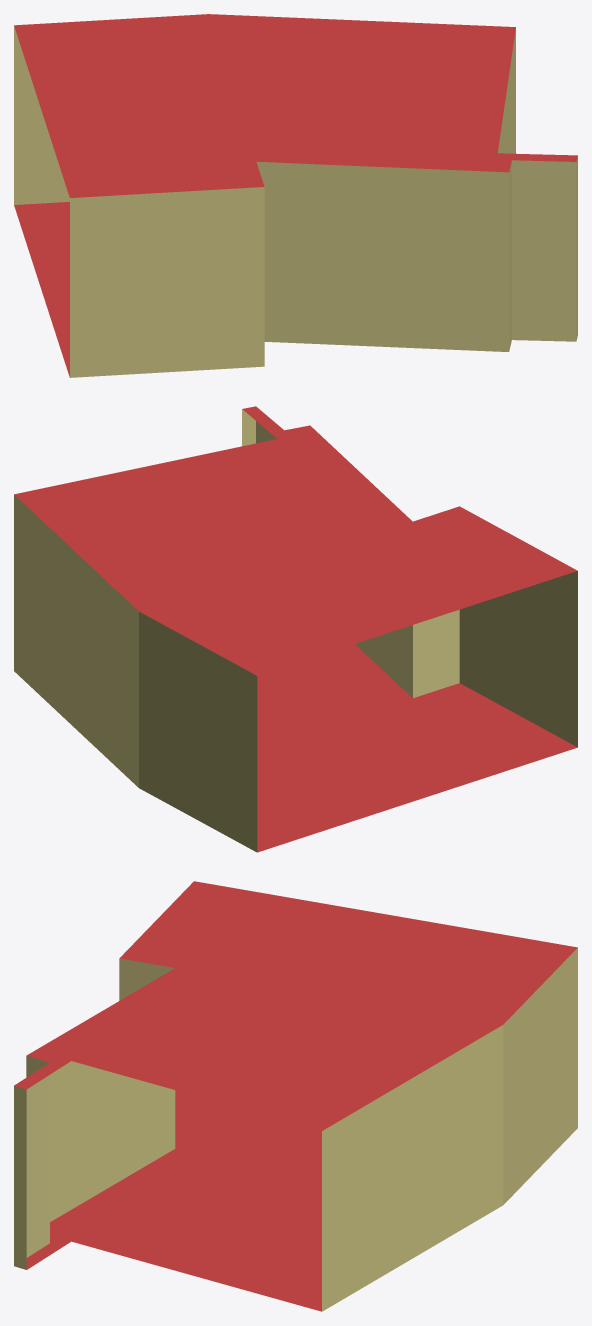
The picture shows the model from 3 angles, top to bottom: view 1: azimuth 30°, elevation 25°; view 2: azimuth 150°, elevation 25°; view 3: azimuth 270°, elevation 25°; orthographic projection. The views are drawn at different scales.
Size of the model in its own units: 18.84 by 17.96 by 6.35.
